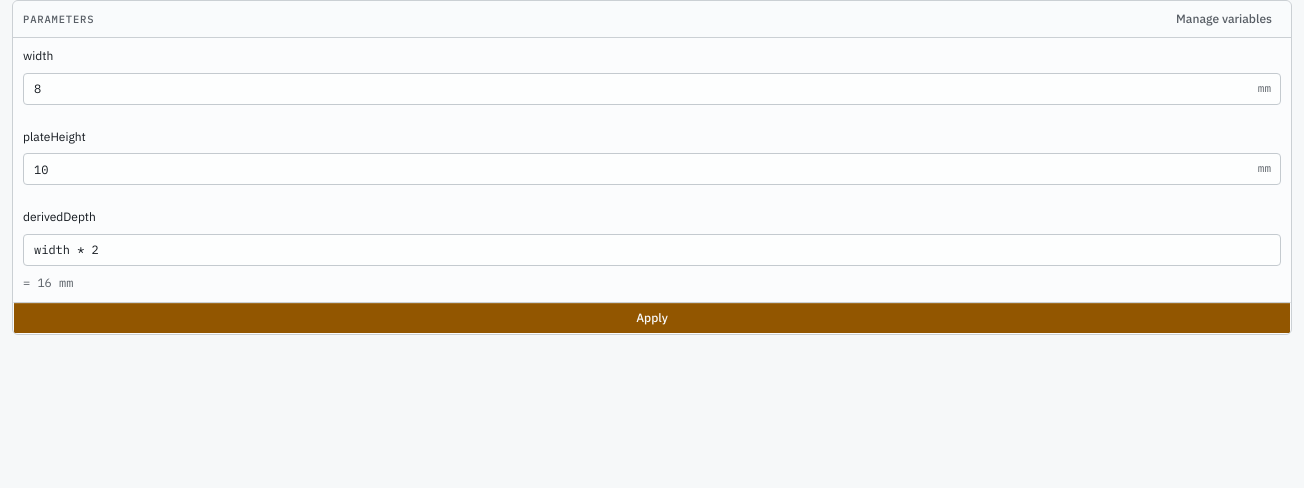
it: CadParameterManager clear › commits the clear-null form landing on the evaluated quantity
Click the button "Manage variables". click: [1224, 19]
box: 1167,7 -> 1281,31
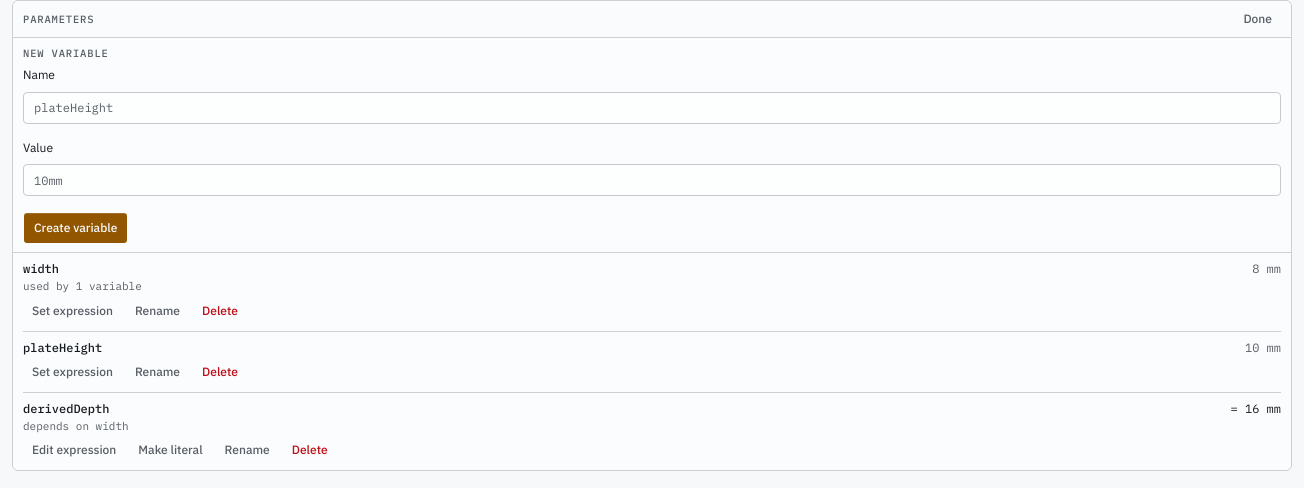
expect the text "= 16 mm" is shown: met, box 1231,401 -> 1281,417
Click the button "Make literal". click: [170, 450]
box: 129,438 -> 212,462
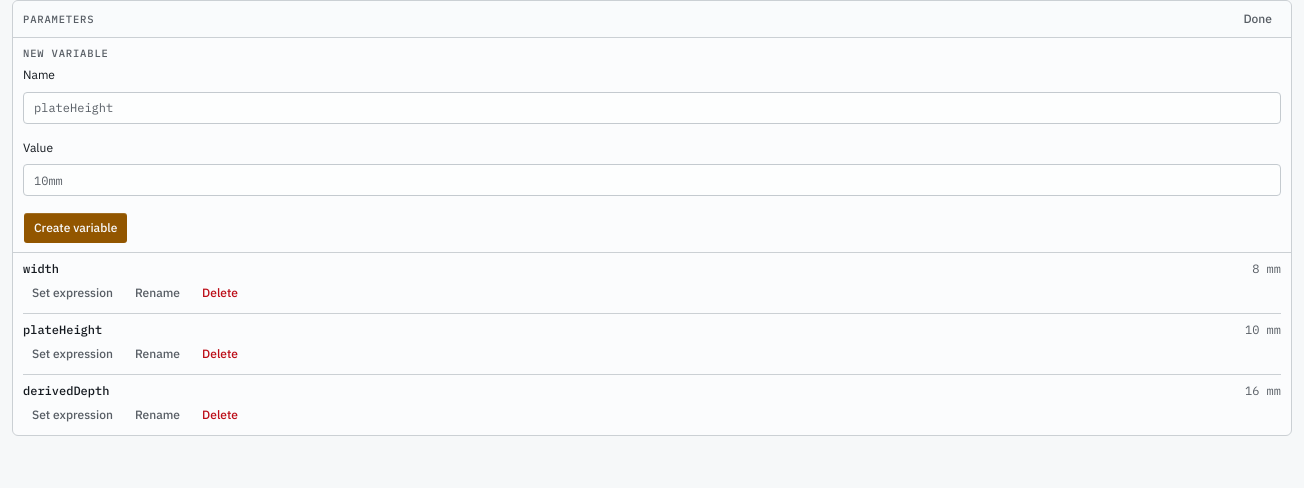
expect the text "16 mm" is shown: met, box 1245,383 -> 1281,399
expect the text "depends on" is gone: met
expect the button "Set expression" below "derivedDepth" is shown: met, box 23,403 -> 122,427
